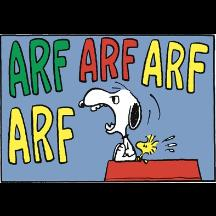snoopy: (78, 86, 143, 162)
